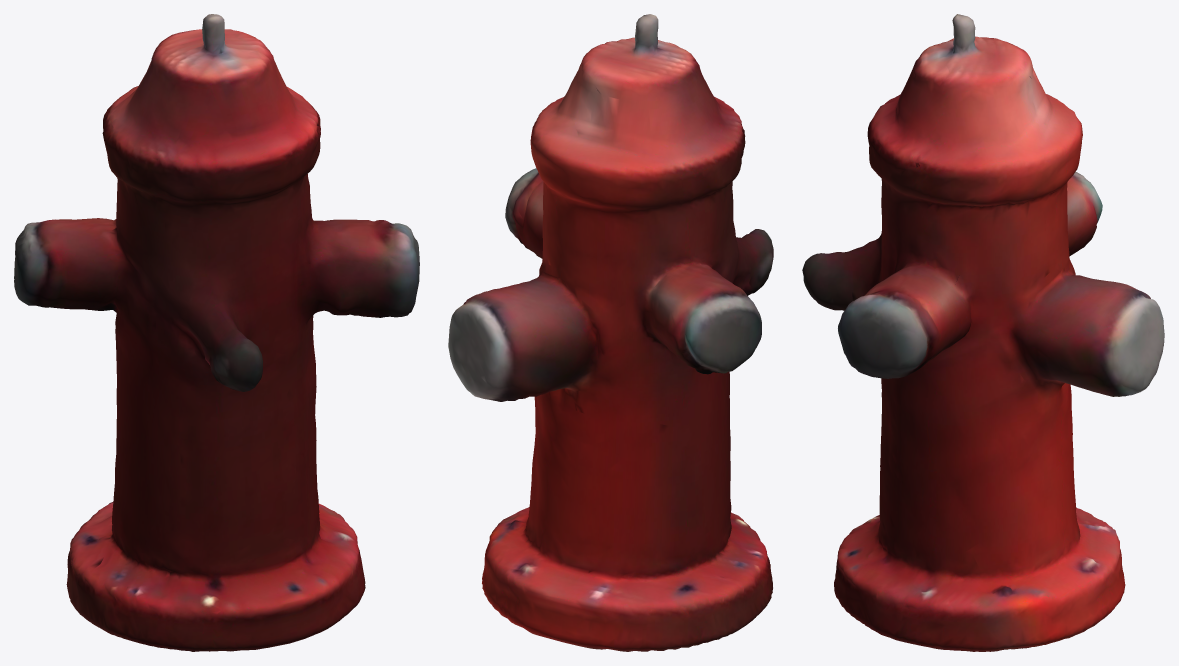
Rendered from gen_hydrant_photo.mobile-high.glb.
The picture shows the model from 3 angles, left to right: view 1: azimuth 30°, elevation 25°; view 2: azimuth 150°, elevation 25°; view 3: azimuth 270°, elevation 25°; orthographic projection. The views are drawn at different scales.
Parts seen in each view (by area): view 1: gen_hydrant_photo; view 2: gen_hydrant_photo; view 3: gen_hydrant_photo.
Boxes of the visible parts, bbox=[...] form: gen_hydrant_photo: bbox=[14, 14, 419, 651]; gen_hydrant_photo: bbox=[448, 14, 773, 651]; gen_hydrant_photo: bbox=[802, 14, 1164, 651].
Bounding box in the file's own units: 0.4551 × 0.7999 × 0.4533.
1 material, 1 textured.
